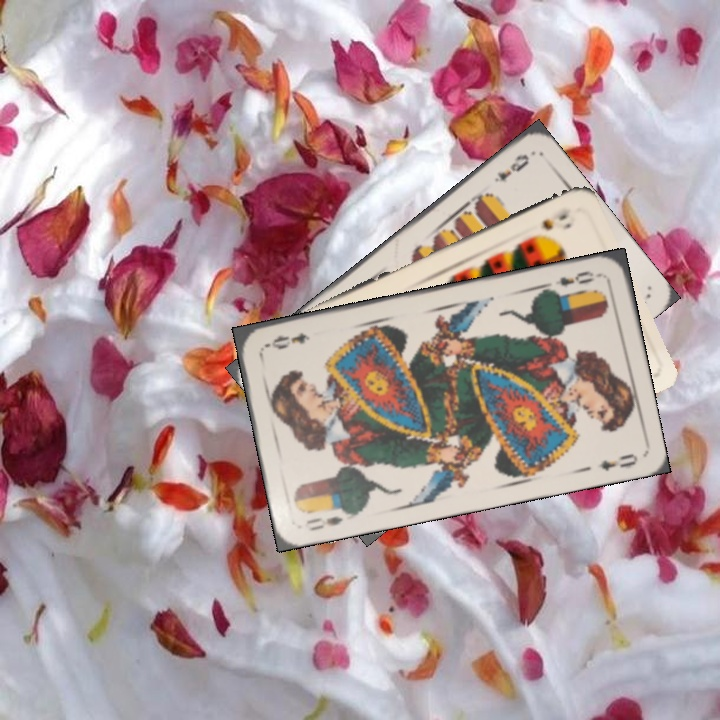E9: (490, 149, 532, 185)
EO: (551, 266, 603, 289), (302, 512, 346, 534)
S10: (537, 203, 574, 233)
